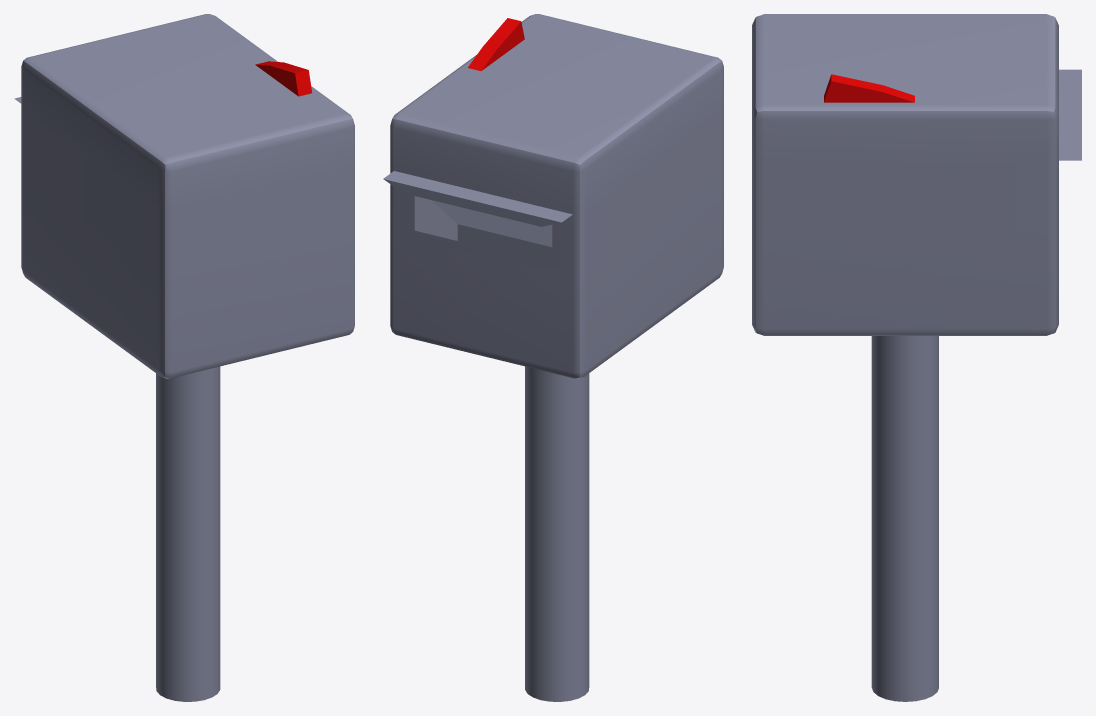
Rendered from SM_MailBox.fbx.
The picture shows the model from 3 angles, left to right: view 1: azimuth 30°, elevation 25°; view 2: azimuth 150°, elevation 25°; view 3: azimuth 270°, elevation 25°; orthographic projection. The views are drawn at different scales.
Parts seen in each view (by area): view 1: MailBox; view 2: MailBox; view 3: MailBox.
Boxes of the visible parts, x1,y1,x2,y2 form: MailBox: (14,14,354,701); MailBox: (383,14,723,701); MailBox: (752,14,1081,701).
Size of the model in its own units: 100 by 308 by 142.
